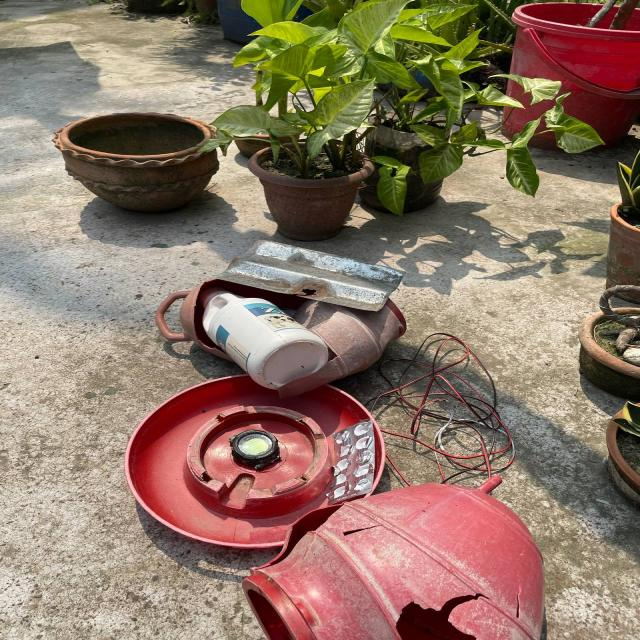Cable: (367, 324, 539, 477)
E-waste: (222, 432, 282, 471)
Medical Waste: (330, 418, 384, 501)
Metal: (217, 232, 419, 302)
Plastics: (125, 495, 564, 640), (135, 299, 409, 412), (115, 371, 231, 557)
